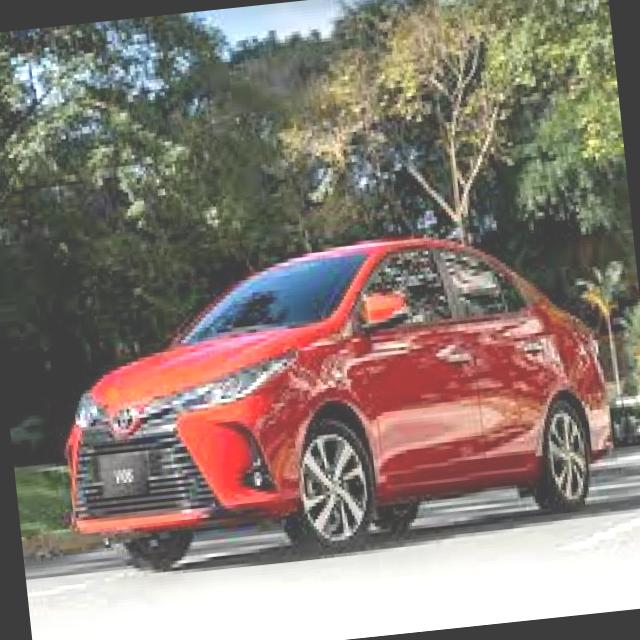ToyotaVios: (38, 214, 622, 580)
